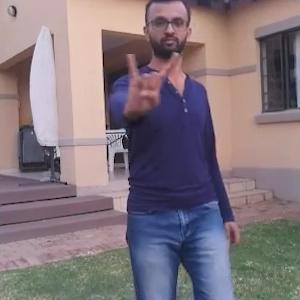takeoff-hand: (118, 48, 185, 121)
